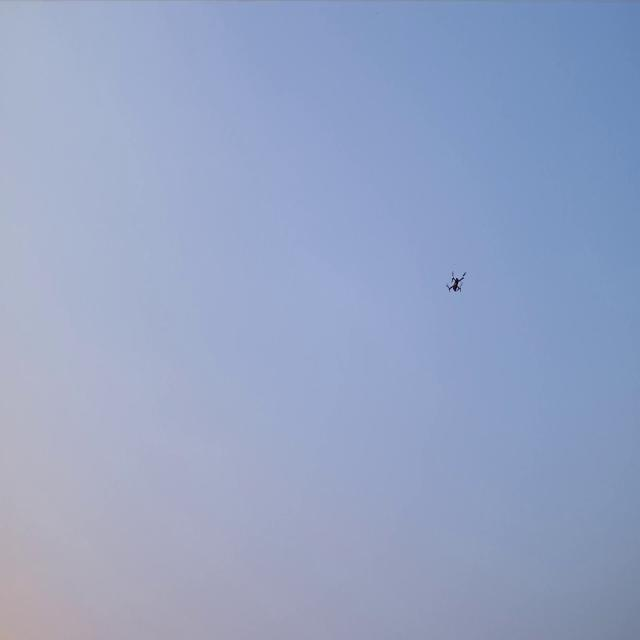UAV: (445, 268, 468, 294)
